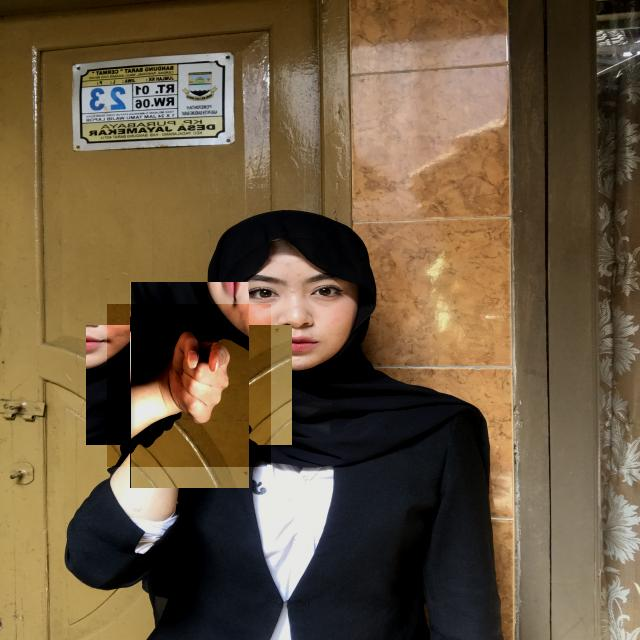kamu: (107, 304, 271, 467)
